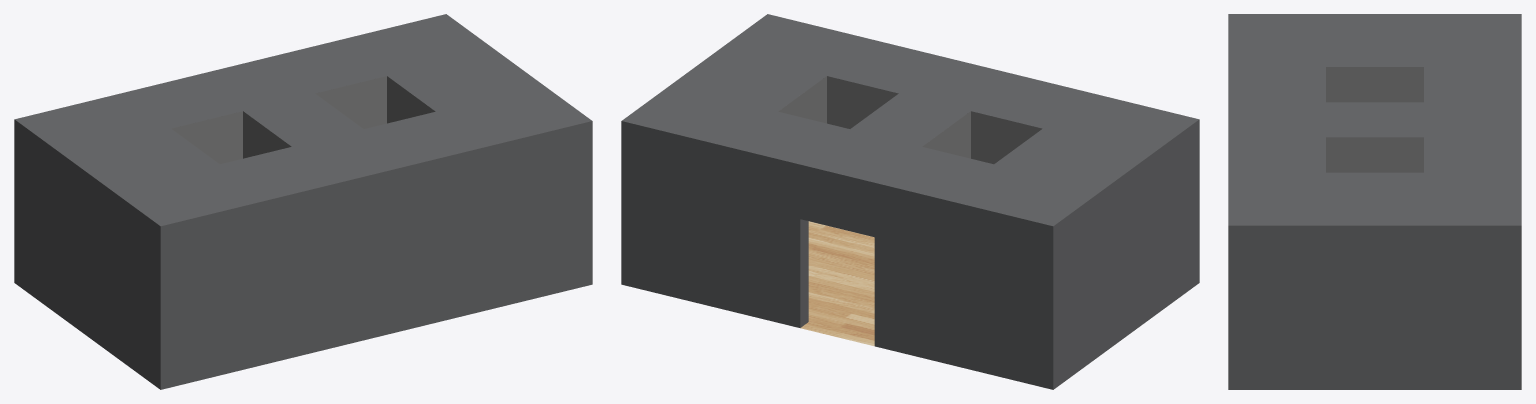
File: room_v3.gltf
The picture shows the model from 3 angles, left to right: view 1: azimuth 30°, elevation 25°; view 2: azimuth 150°, elevation 25°; view 3: azimuth 270°, elevation 25°; orthographic projection.
Parts seen in each view (by area): view 1: facade, ceiling; view 2: facade, floor, ceiling; view 3: facade, ceiling.
Part boxes in pixels (box(x1,y1,x2,y2)): facade: box(14, 14, 592, 389); ceiling: box(171, 76, 435, 164); facade: box(621, 14, 1199, 389); floor: box(800, 221, 874, 346); ceiling: box(778, 76, 1042, 164); facade: box(1228, 14, 1521, 389); ceiling: box(1326, 67, 1423, 172).
Size of the model in its own units: 58 by 21 by 34.
4 materials, 1 textured.
